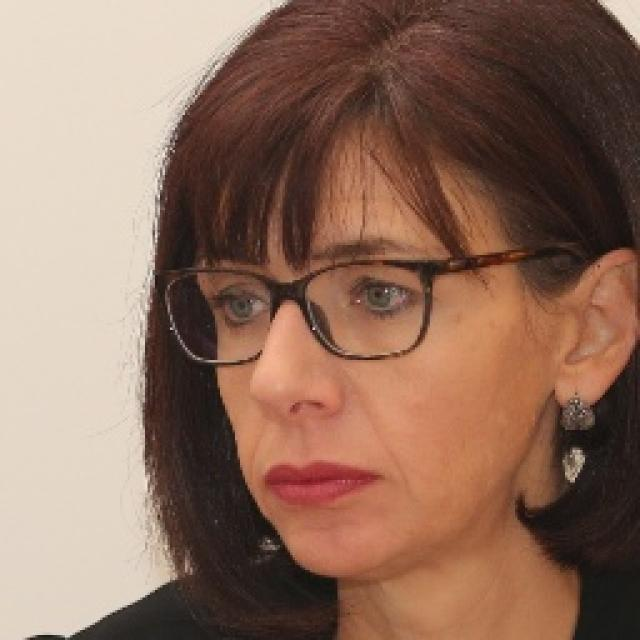earlobe: (552, 246, 640, 411)
